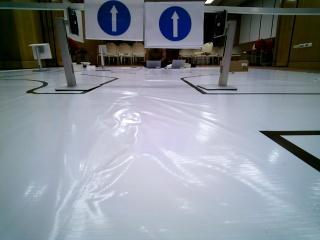straight: (145, 1, 203, 47), (82, 0, 143, 40)
